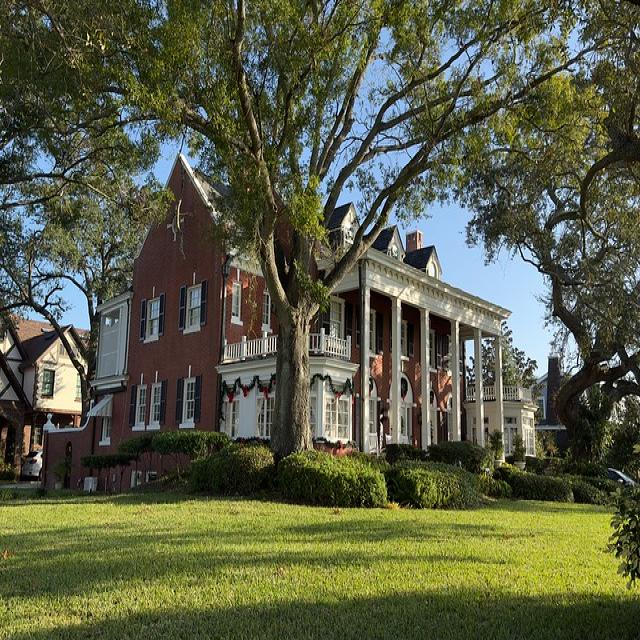building: (96, 150, 514, 478), (8, 319, 92, 433)
